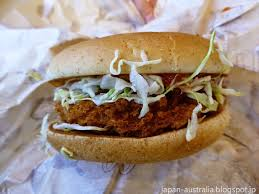hamburger: (34, 30, 231, 160)
